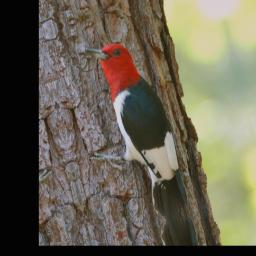Woodpecker: (64, 27, 192, 237)
